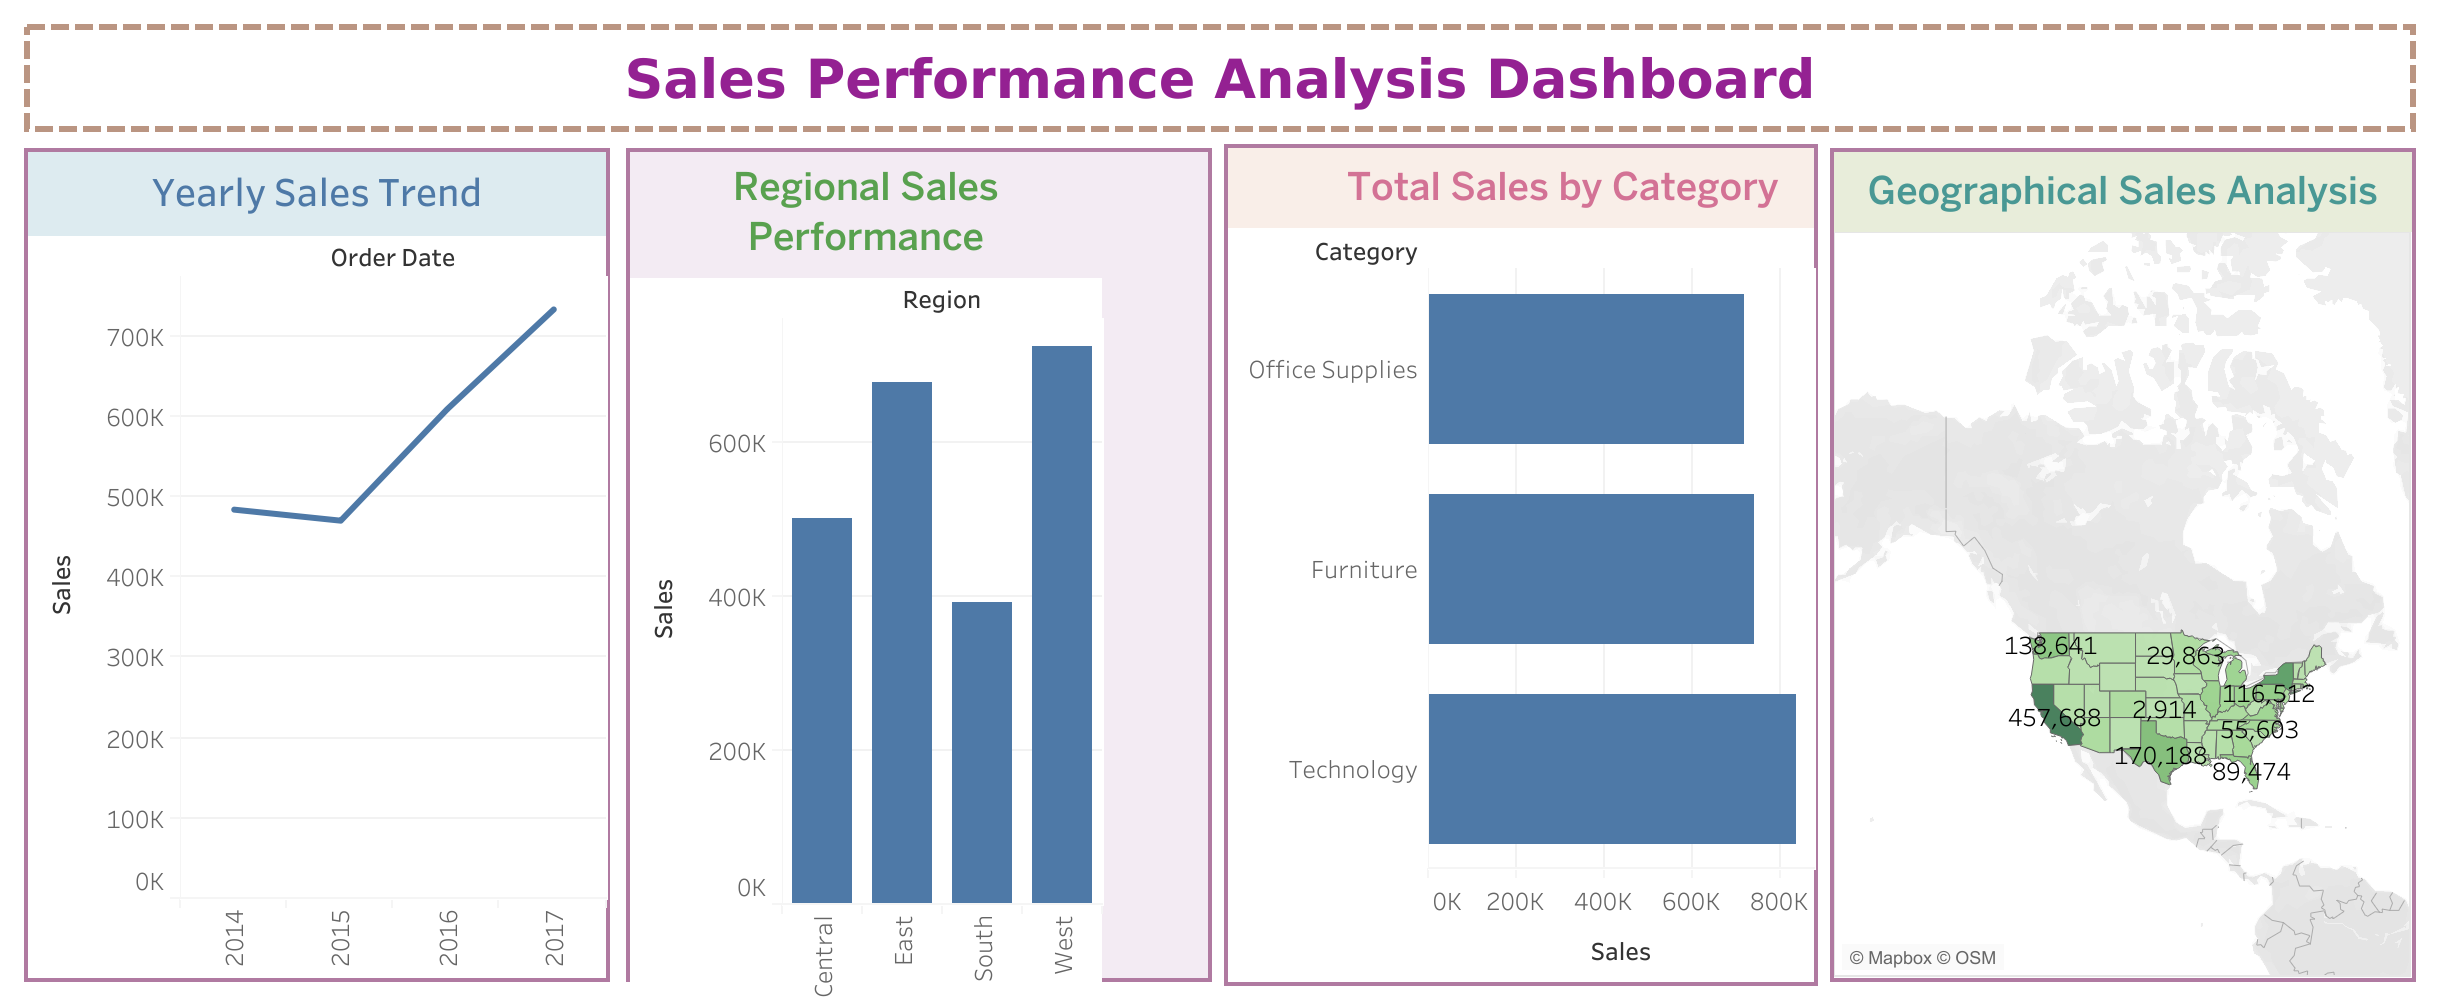

The dashboard page shown, as its layout file describes it:
{"tool":"tableau","page":{"name":"Dashboard 1","canvas":[1000,1000],"units":"permille","ordinal":0},"visuals":[{"type":"text","box":[7.5,14.7,985,124.5]},{"type":"worksheet","title":"Sheet 2","mark":"Automatic","rows":["Sales"],"cols":["Order Date"],"box":[7.5,139.2,247,846.2]},{"type":"worksheet","title":"Sheet 3","mark":"Automatic","rows":["Sales"],"cols":["Region"],"box":[254.4,139.2,246,846.2]},{"type":"worksheet","title":"Sheet 1","mark":"Automatic","rows":["Category"],"cols":["Sales"],"box":[500.5,139.2,246,846.2]},{"type":"worksheet","title":"Sheet 4","mark":"Automatic","box":[746.5,139.2,246,846.2]}]}

Visuals, with their boxes on the dashboard's canvas, which has no fixed pixel size, in thousandths of its width and height (x1, y1, x2, y2). These are canvas units, not pixel positions in the 2438x1004 screenshot, which may show the page scaled, cropped or inside an application window:
text: box(8, 15, 992, 139)
"Sheet 2" worksheet: box(8, 139, 254, 985)
"Sheet 3" worksheet: box(254, 139, 500, 985)
"Sheet 1" worksheet: box(500, 139, 746, 985)
"Sheet 4" worksheet: box(746, 139, 992, 985)
